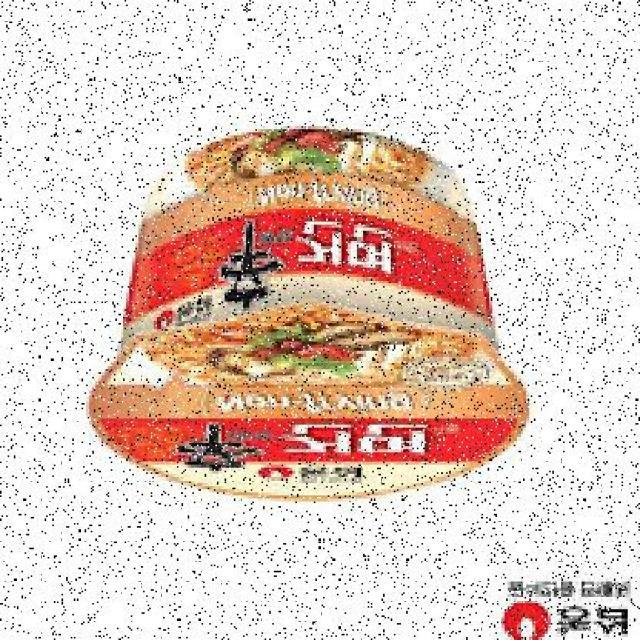Miscellaneous: (84, 104, 530, 498)
